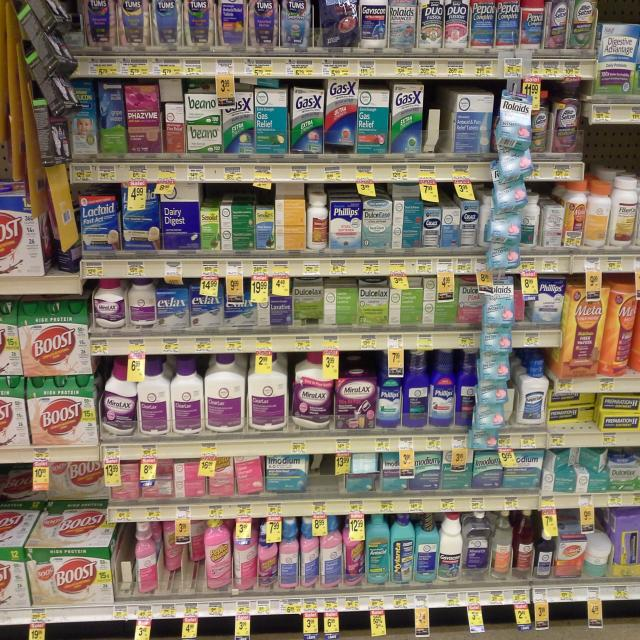empty: (411, 84, 460, 166), (297, 447, 342, 499)
